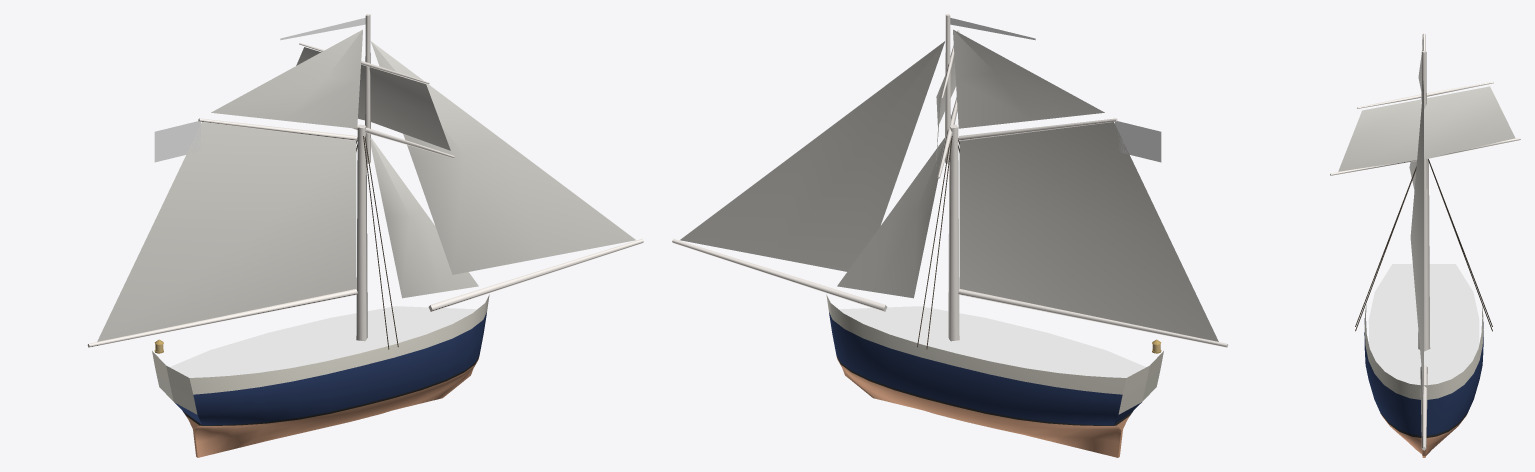
The model's file is revenue_lod2.glb.
3 views of the same model, side by side, from view 1: azimuth 30°, elevation 25°; view 2: azimuth 150°, elevation 25°; view 3: azimuth 270°, elevation 25° (orthographic). The views are drawn at different scales.
Visible parts, largest first — view 1: SM_Revenue_LOD2; view 2: SM_Revenue_LOD2; view 3: SM_Revenue_LOD2.
Boxes of the visible parts, x1,y1,x2,y2 form: SM_Revenue_LOD2: [87, 14, 643, 457]; SM_Revenue_LOD2: [672, 14, 1228, 457]; SM_Revenue_LOD2: [1330, 33, 1520, 457].
Size of the model in its own units: 29.89 by 18.2 by 8.45.
